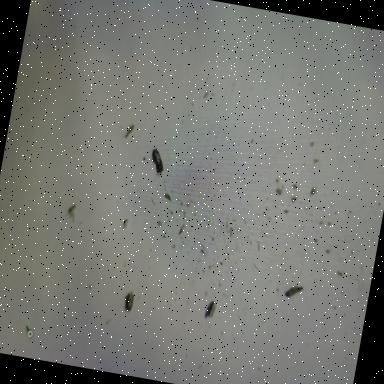pbw: (150, 147, 168, 175), (285, 284, 303, 300), (124, 290, 136, 311)
